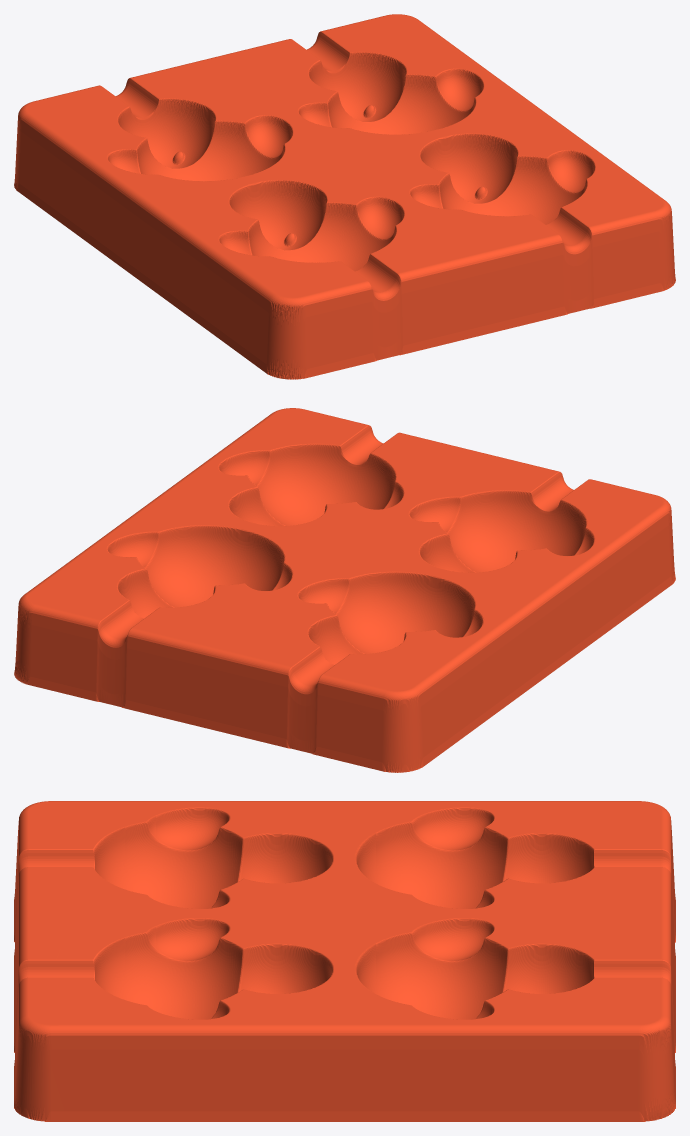
The model's file is mold.glb.
3 views of the same model, one above another, from view 1: azimuth 30°, elevation 25°; view 2: azimuth 150°, elevation 25°; view 3: azimuth 270°, elevation 25° (orthographic). The views are drawn at different scales.
Visible parts, largest first — view 1: geometry_0; view 2: geometry_0; view 3: geometry_0.
Boxes of the visible parts, left/top/right/bottom form: geometry_0: left=14, top=14, right=675, bottom=379; geometry_0: left=14, top=408, right=675, bottom=772; geometry_0: left=14, top=801, right=675, bottom=1121.
Size of the model in its own units: 0.136 by 0.0245 by 0.1616.
